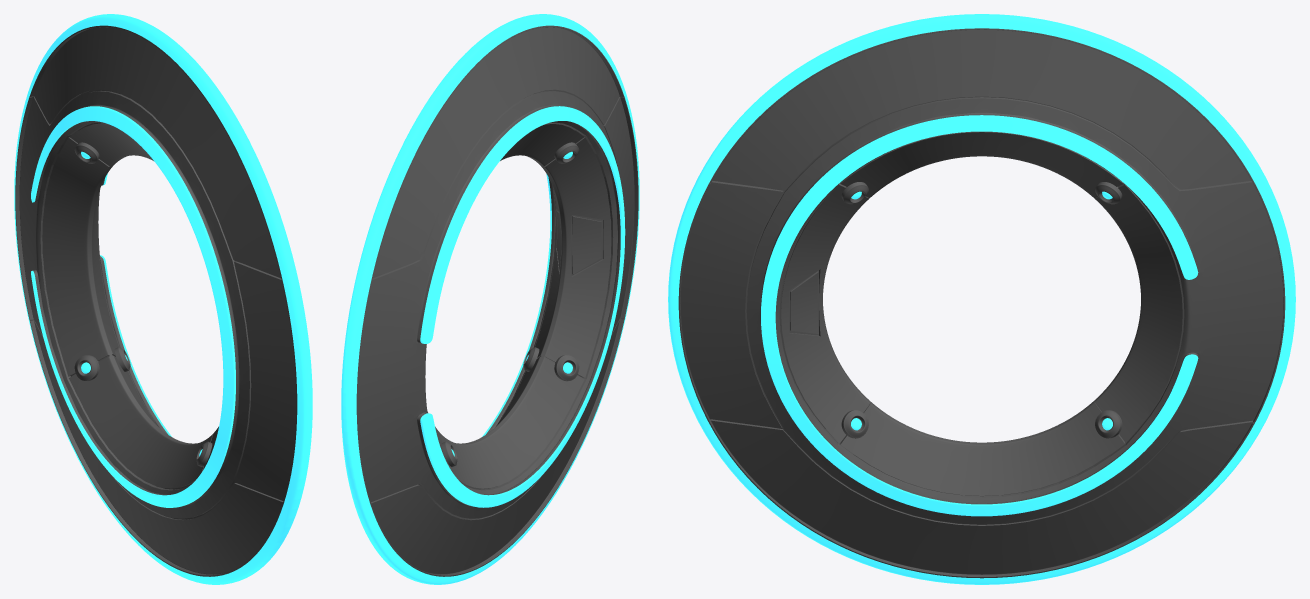
The picture shows the model from 3 angles, left to right: view 1: azimuth 30°, elevation 25°; view 2: azimuth 150°, elevation 25°; view 3: azimuth 270°, elevation 25°; orthographic projection. The views are drawn at different scales.
Visible parts, largest first — view 1: Disc_2; view 2: Disc_2; view 3: Disc_2.
Part boxes in pixels (x1,y1,x2,y2): Disc_2: (14,14,312,584); Disc_2: (341,14,639,584); Disc_2: (668,14,1295,584).
Size of the model in its own units: 0.2844 by 1.99 by 1.99.
